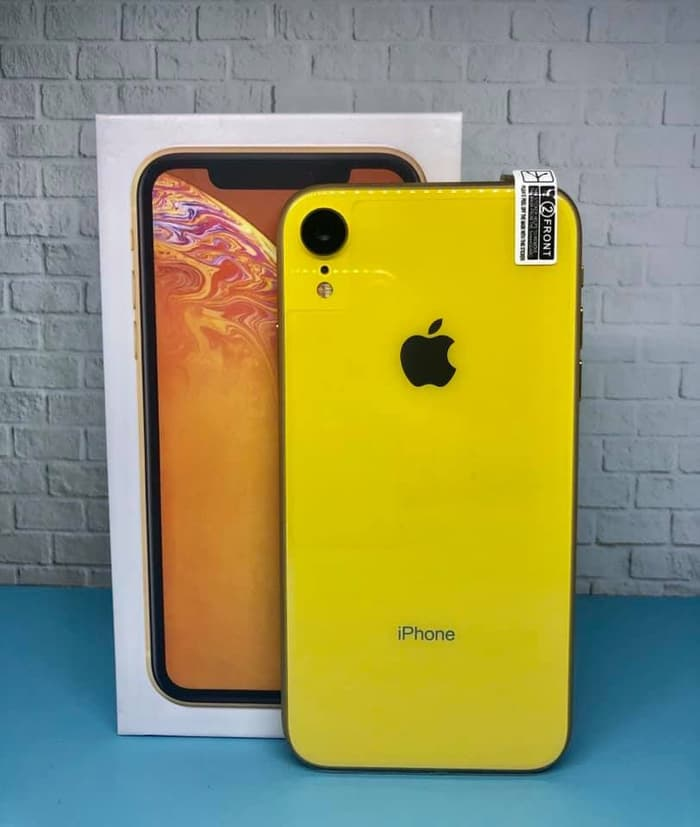apple: (389, 294, 465, 417)
